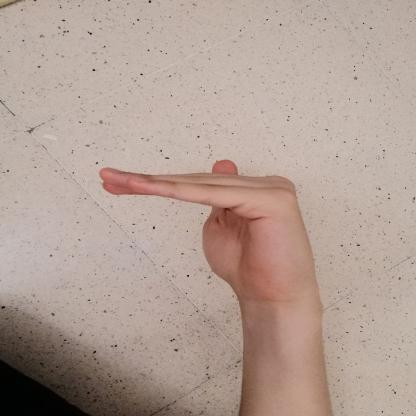KHAA: (82, 148, 332, 311)
